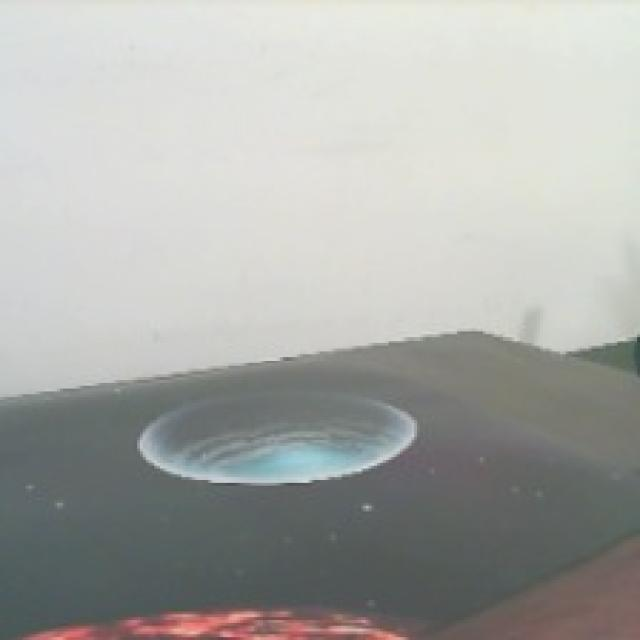Earth: (140, 389, 419, 488)
Sun: (20, 603, 437, 640)
